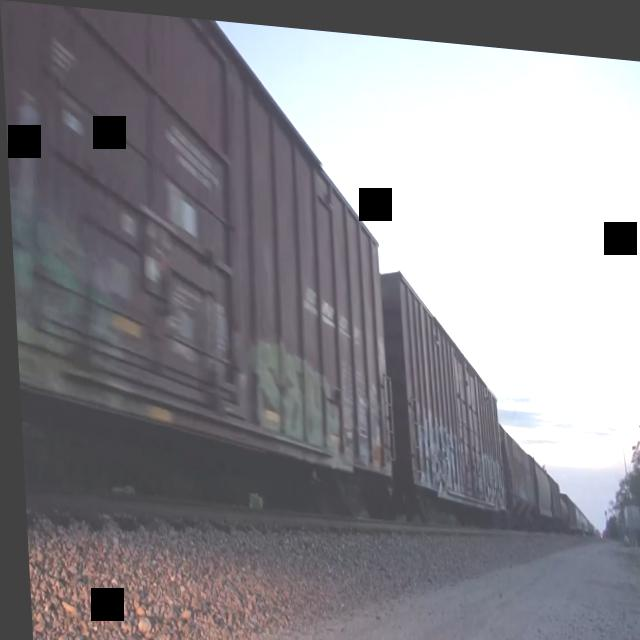boxcar: (0, 0, 398, 526), (382, 251, 507, 524)
